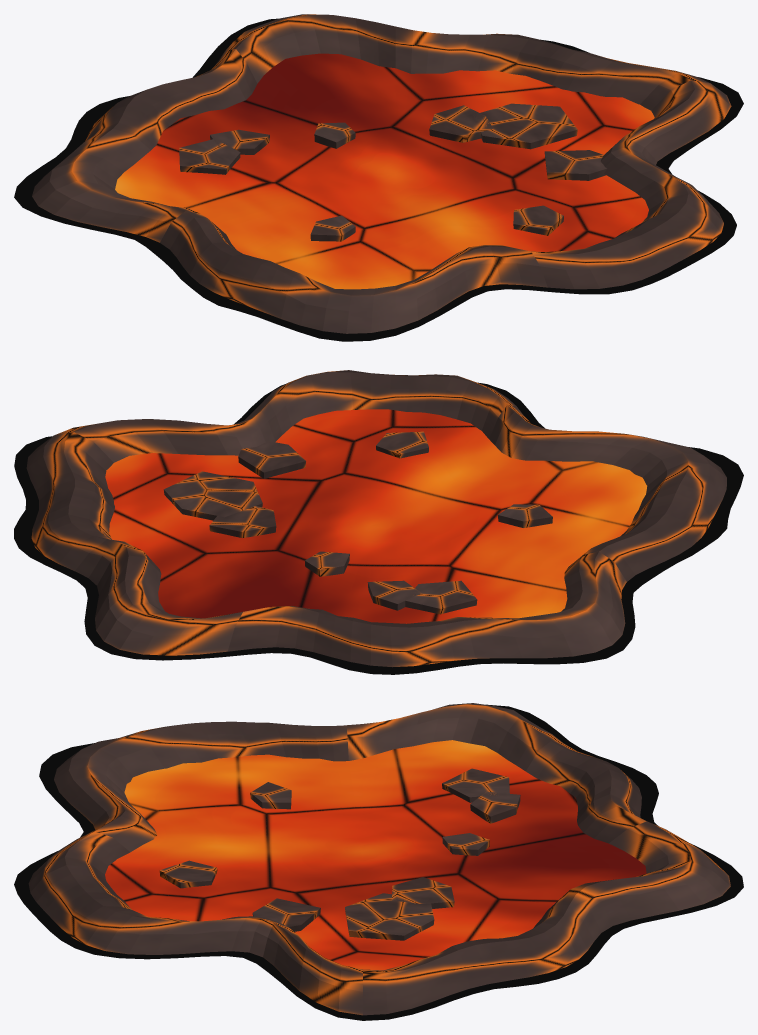
Rendered from LavaPool.fbx.
3 renders of one model, top to bottom at view 1: azimuth 30°, elevation 25°; view 2: azimuth 150°, elevation 25°; view 3: azimuth 270°, elevation 25°, orthographic.
Parts seen in each view (by area): view 1: LavaPool, LavaRim, LavaPlates, LavaInk; view 2: LavaPool, LavaRim, LavaPlates, LavaInk; view 3: LavaPool, LavaRim, LavaPlates, LavaInk.
Part boxes in pixels (x1,y1,x2,y2): LavaPool: [115, 53, 654, 289]; LavaRim: [32, 14, 731, 333]; LavaPlates: [179, 103, 606, 241]; LavaInk: [14, 18, 743, 341]; LavaPool: [105, 409, 647, 623]; LavaRim: [26, 370, 726, 667]; LavaPlates: [163, 431, 552, 614]; LavaInk: [14, 382, 743, 674]; LavaPool: [105, 740, 646, 970]; LavaRim: [28, 703, 730, 1015]; LavaPlates: [159, 768, 520, 940]; LavaInk: [14, 704, 743, 1020].
Size of the model in its own units: 2163 by 105 by 2109.
